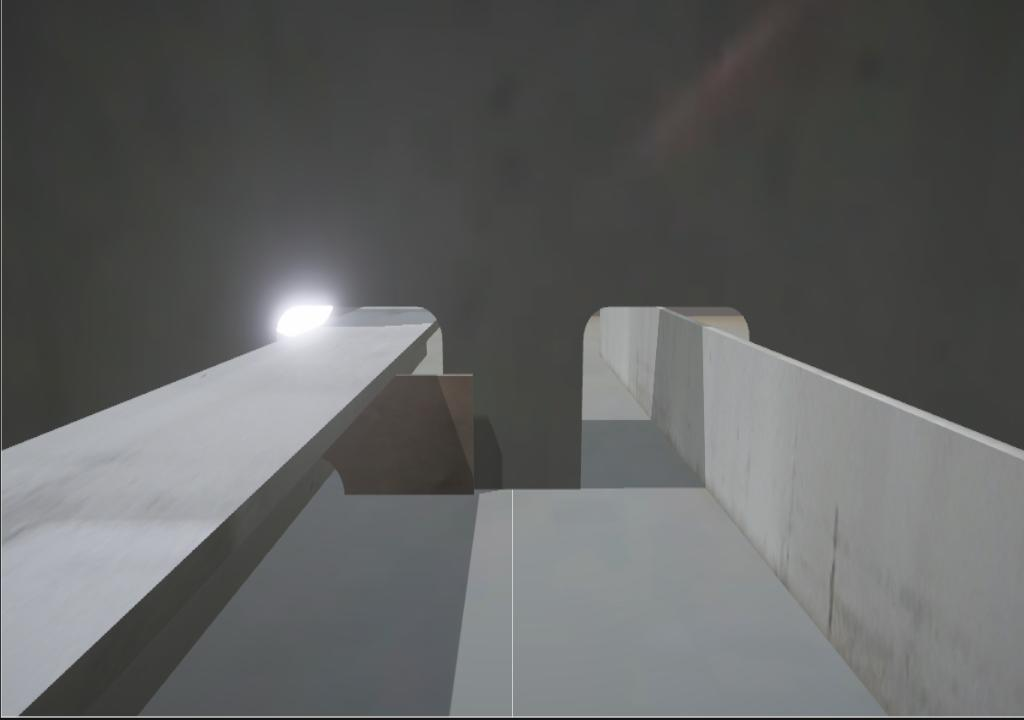fillet_yong_jeop_jang: (472, 476, 587, 497)
plate_CP02: (322, 372, 477, 498)
